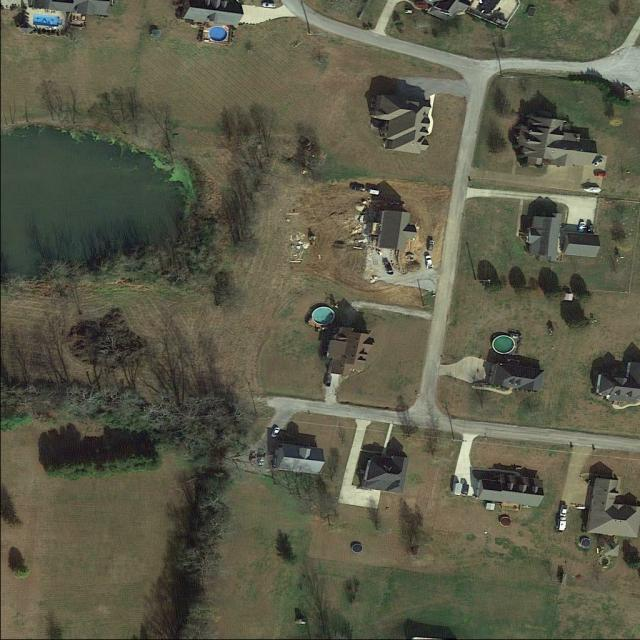ship: (584, 187, 602, 194)
small-vehicle: (577, 221, 588, 234), (558, 518, 567, 532), (460, 484, 470, 496), (271, 427, 281, 439), (384, 264, 394, 276), (559, 505, 568, 518), (426, 256, 434, 270), (262, 1, 276, 9), (593, 158, 605, 167), (352, 186, 366, 192), (326, 375, 332, 388), (595, 172, 607, 178), (259, 457, 266, 467), (588, 223, 594, 234), (428, 240, 434, 251), (251, 451, 257, 461)
